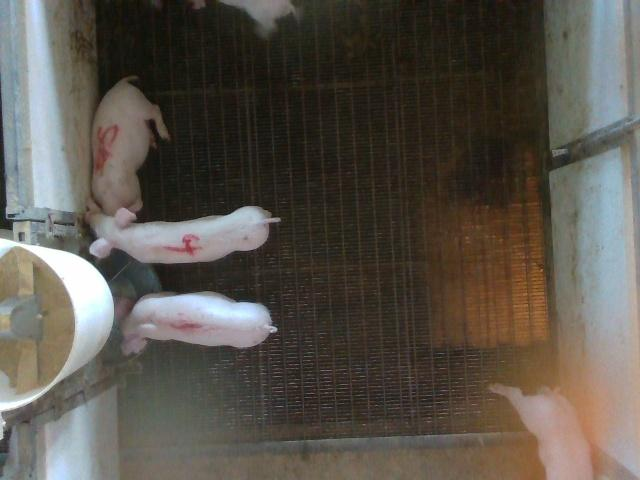pig-1: (114, 291, 276, 354)
pig-4: (86, 206, 280, 263)
pig-5: (92, 76, 170, 216)
